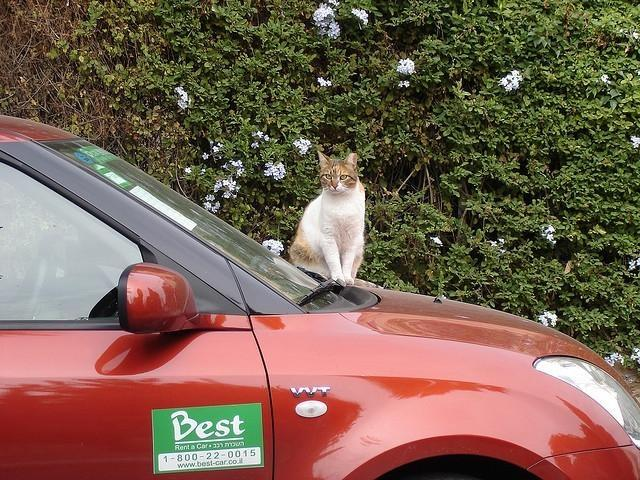car: (0, 115, 638, 480)
